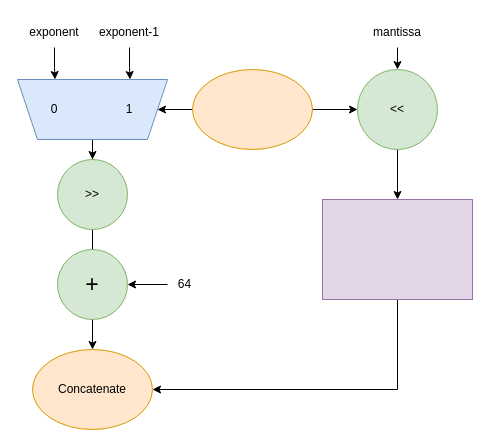
The diagram is 490 pixels wide and 447 high, and some of its shapes have lost their labels. Each missing label, with the centre of its shape:
exponent LSB == 1: (x=252, y=109)
Mantissa Square Root: (x=397, y=249)
